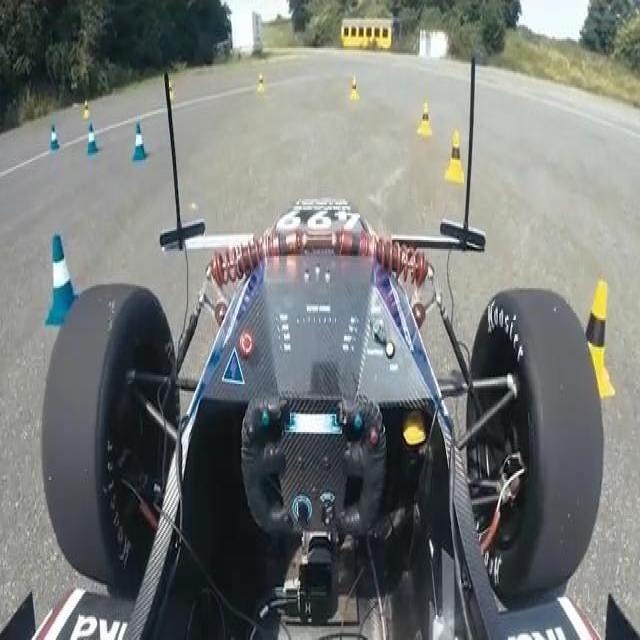blue_cone: (37, 226, 87, 328), (124, 119, 156, 165), (82, 123, 104, 161), (44, 121, 62, 150)
yellow_cone: (570, 274, 615, 398), (446, 122, 469, 186), (415, 91, 435, 141), (349, 70, 362, 102), (256, 66, 270, 94)
